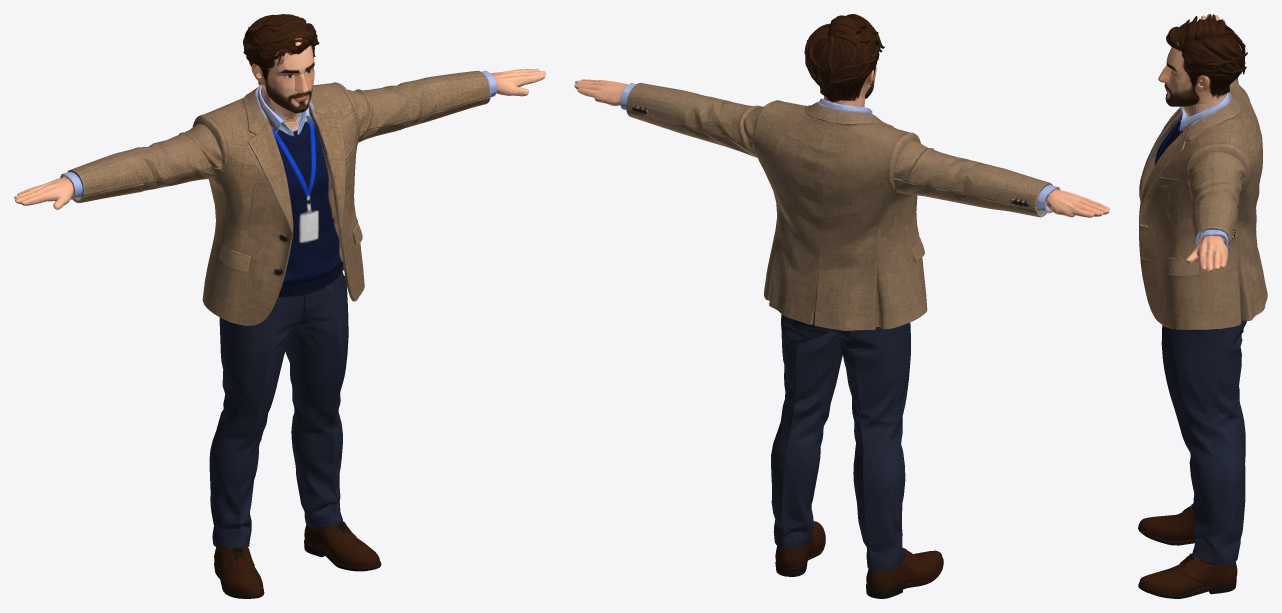
Rendered from Colleague_Meshy71_v001.glb.
The picture shows the model from 3 angles, left to right: view 1: azimuth 30°, elevation 25°; view 2: azimuth 150°, elevation 25°; view 3: azimuth 270°, elevation 25°; orthographic projection.
Size of the model in its own units: 1.9 by 1.89 by 0.4084.
1 material, 1 textured.
